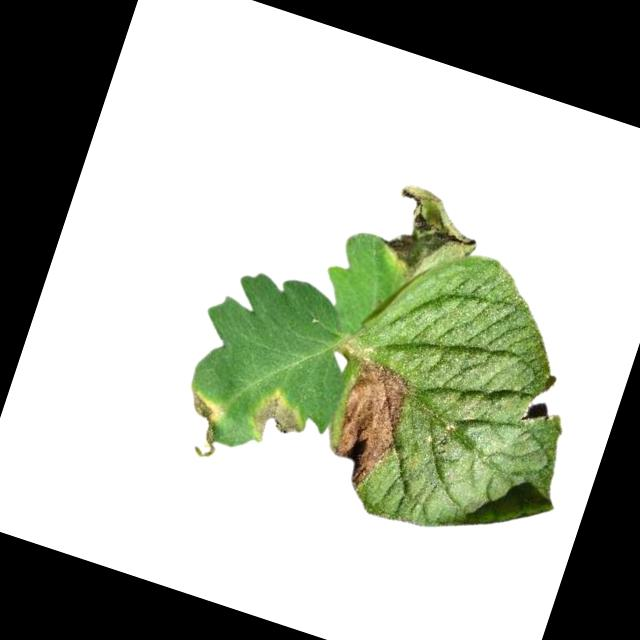Late_blight: (320, 355, 420, 496), (373, 179, 491, 298), (172, 384, 234, 462), (247, 382, 311, 451)
